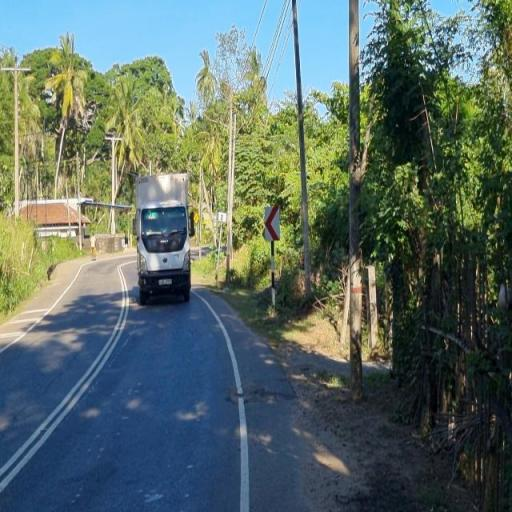double_white_line: (1, 260, 133, 492)
